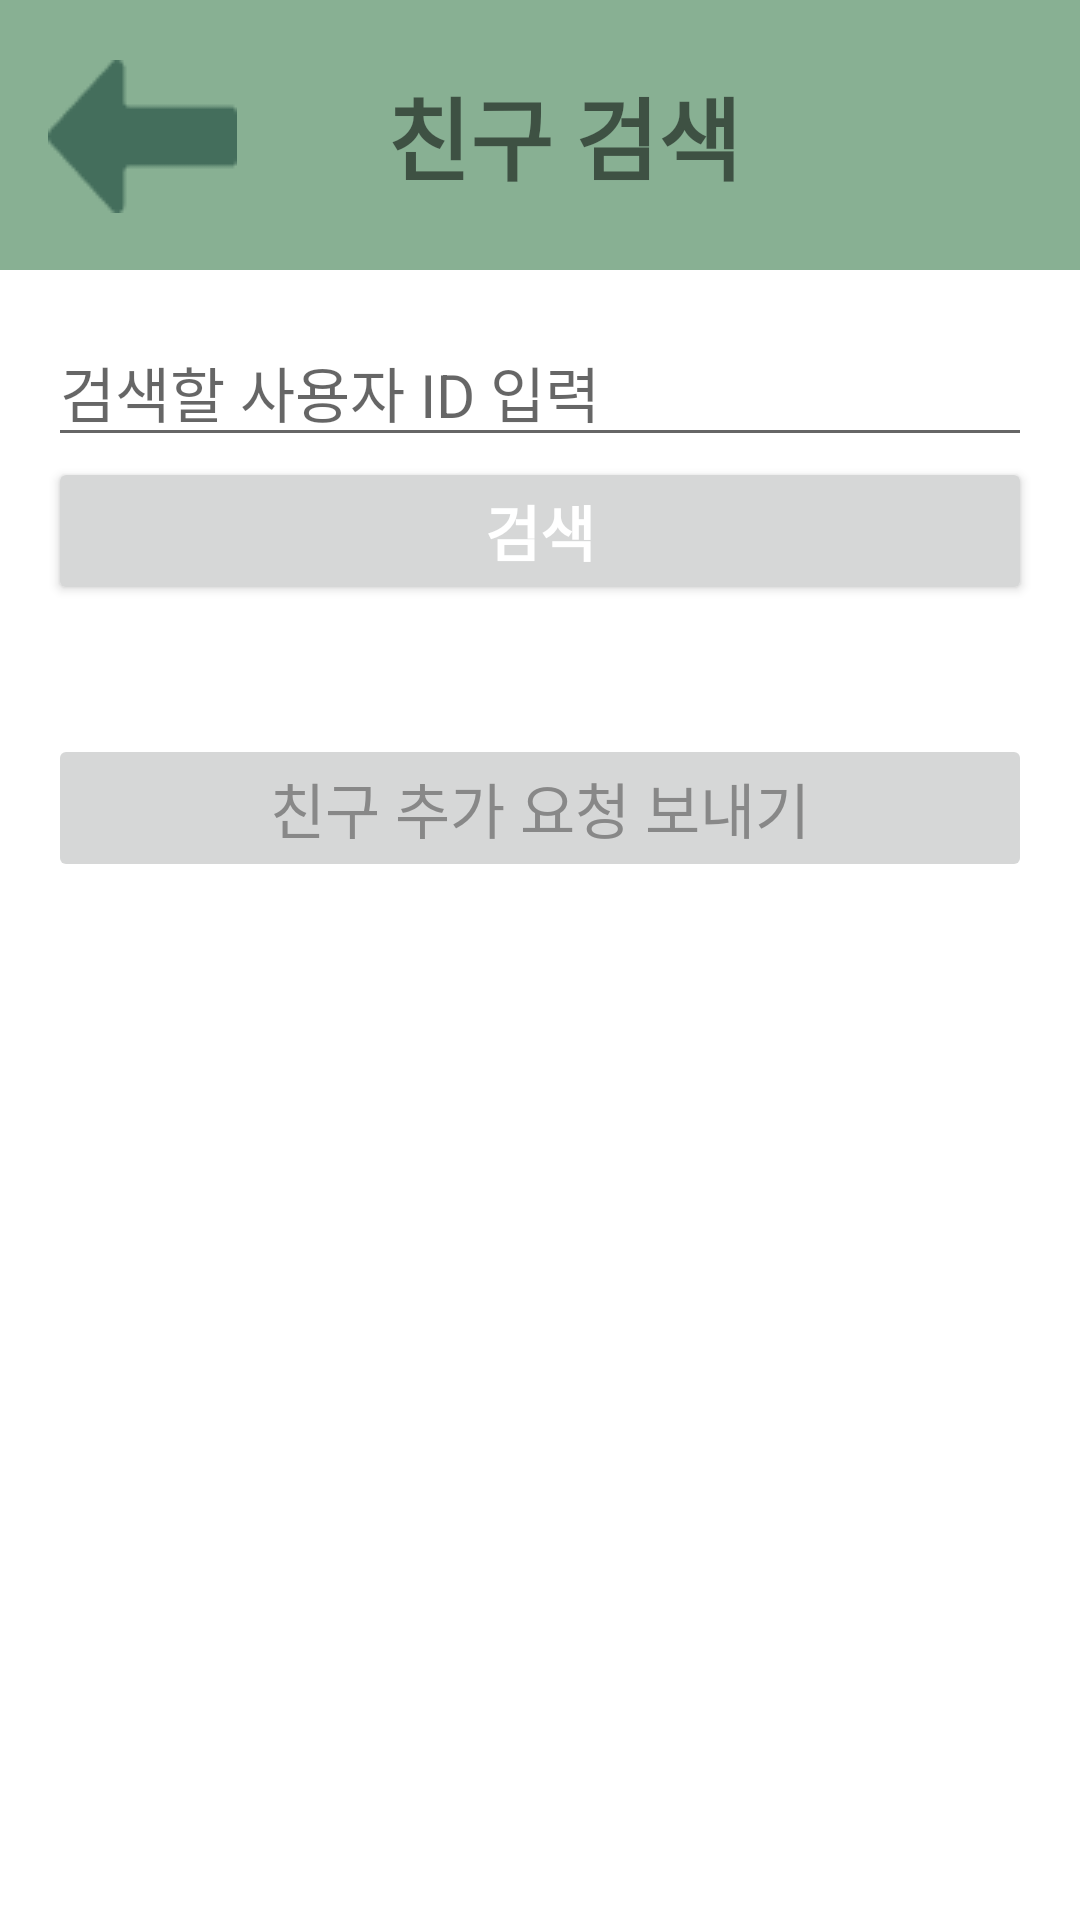

Icons on this 1080px×1920px Android screen, each with its box as (x1, y1, x2, y2):
back 버튼: (48, 60, 237, 213)
